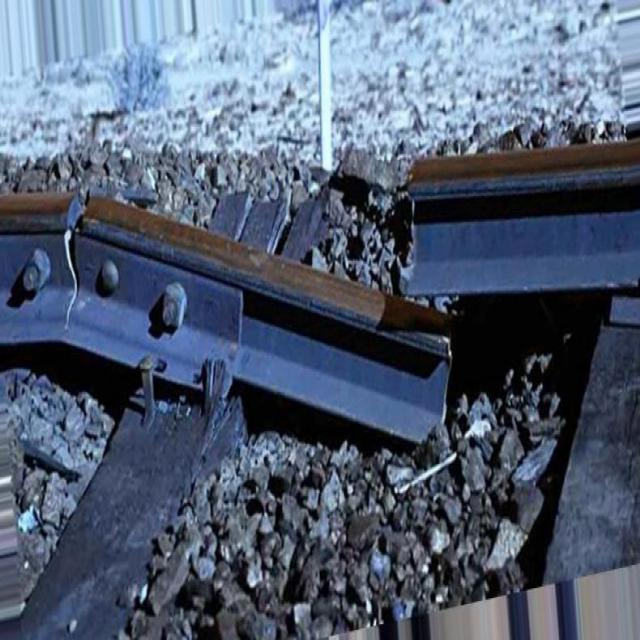crack: (53, 162, 107, 356)
